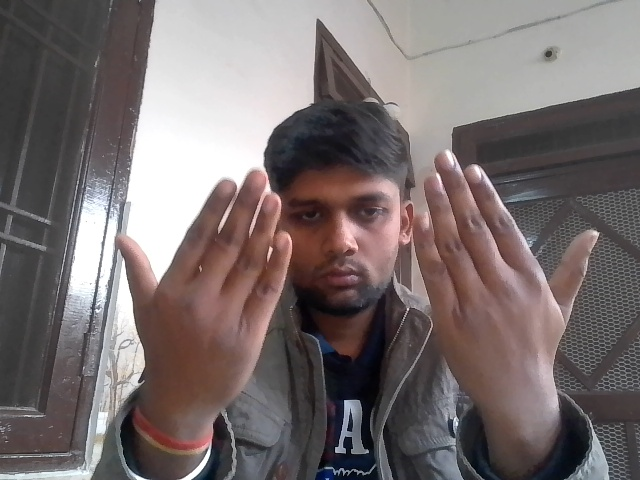ThankYou: (96, 133, 611, 416)
